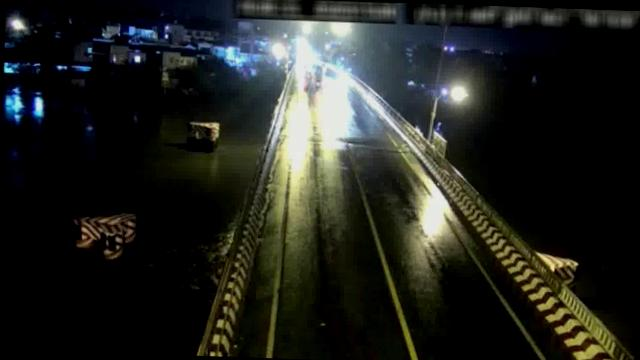Bike: (303, 72, 312, 93)
